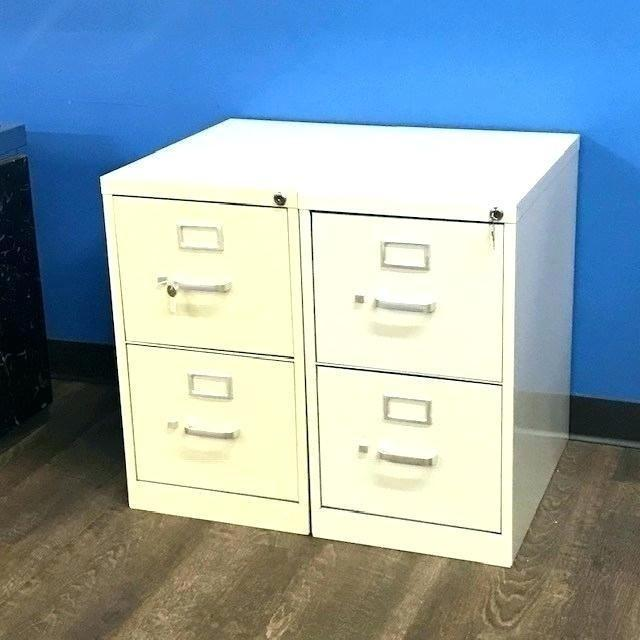Filing Cabinet: (297, 192, 515, 568), (97, 177, 309, 535)
